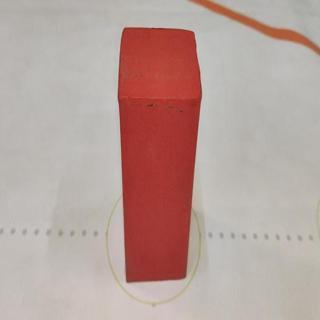redbox: (119, 24, 201, 284)
